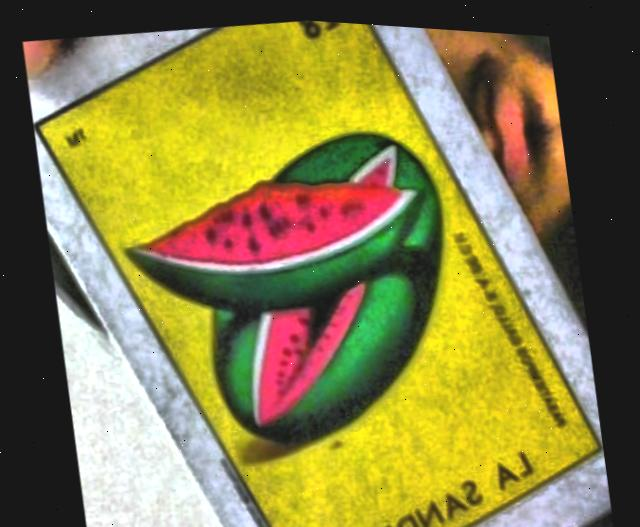La Sandia: (37, 16, 600, 527)
